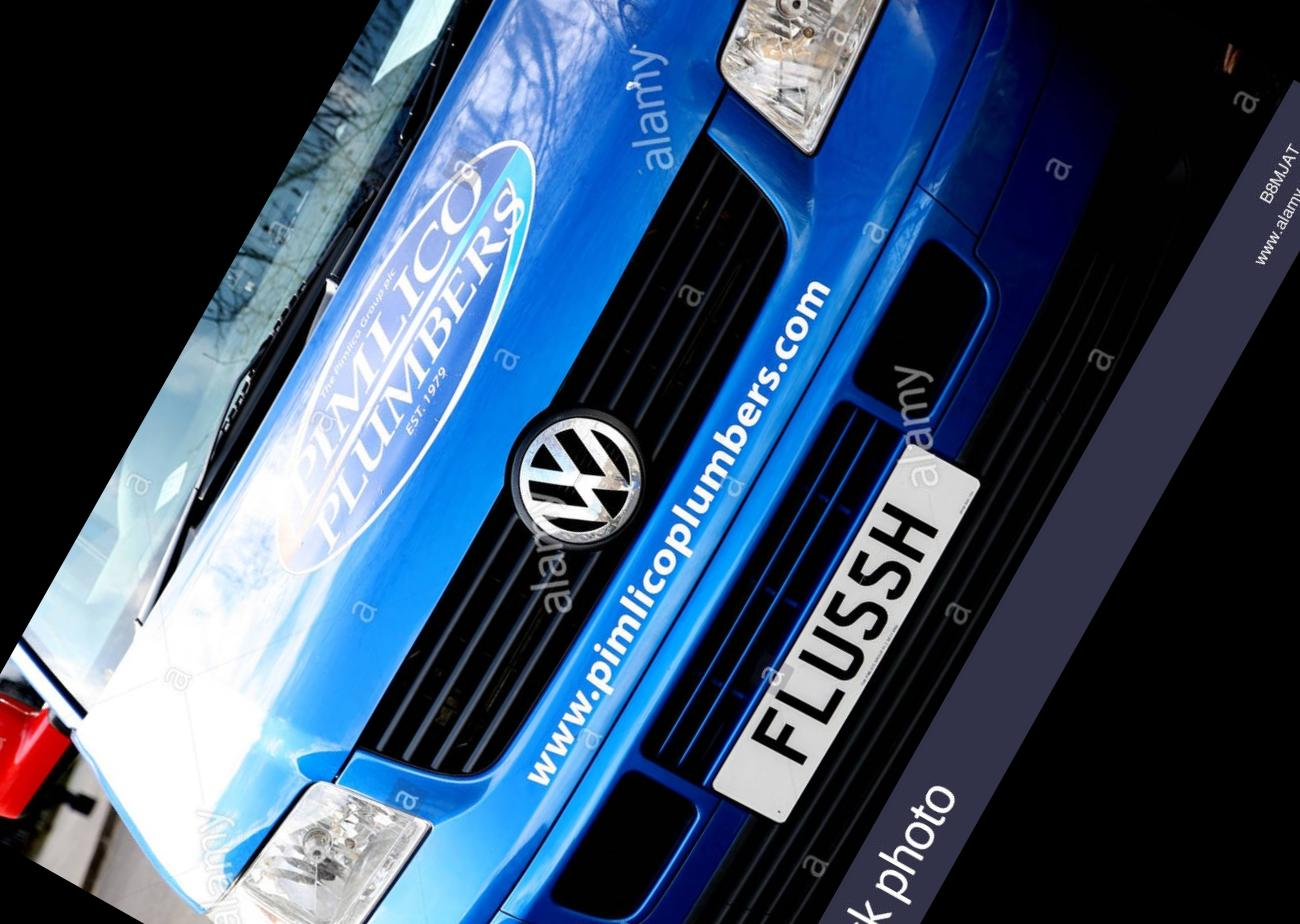plate: (709, 435, 1002, 840)
